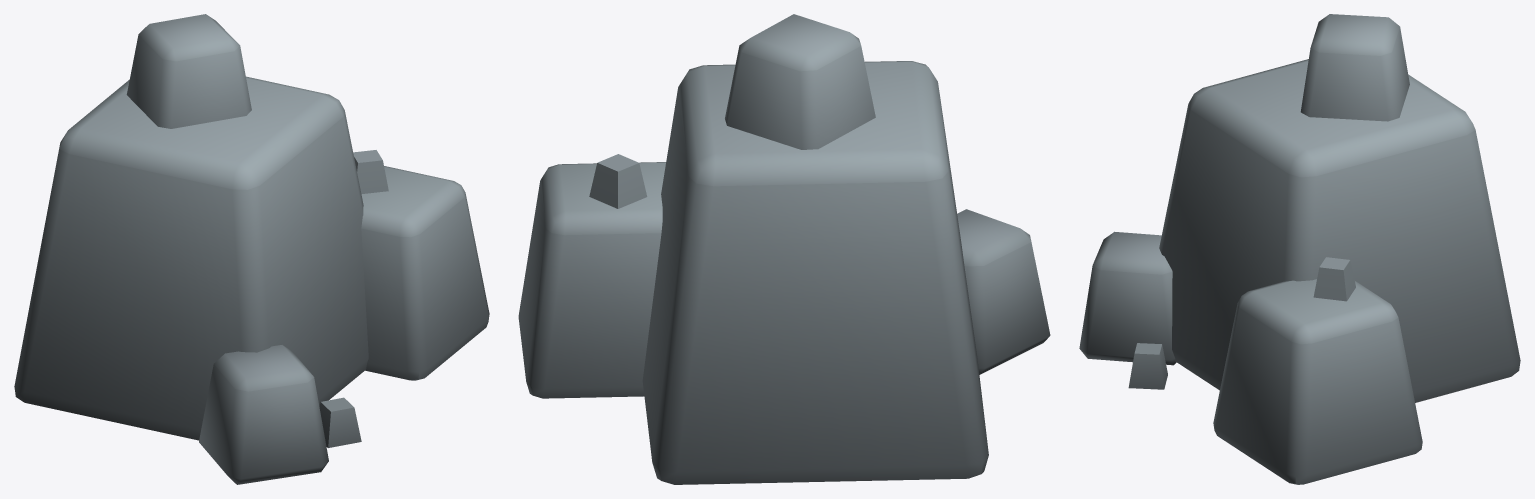
The model's file is Rock_2_H_Color1.glb.
The picture shows the model from 3 angles, left to right: view 1: azimuth 30°, elevation 25°; view 2: azimuth 150°, elevation 25°; view 3: azimuth 270°, elevation 25°; orthographic projection. The views are drawn at different scales.
Parts seen in each view (by area): view 1: Rock_2_H_Color1; view 2: Rock_2_H_Color1; view 3: Rock_2_H_Color1.
Boxes of the visible parts, x1,y1,x2,y2 form: Rock_2_H_Color1: [14, 14, 489, 484]; Rock_2_H_Color1: [518, 14, 1050, 484]; Rock_2_H_Color1: [1079, 14, 1520, 484].
Bounding box in the file's own units: 3.7 × 2.76 × 3.31.
1 material, 1 textured.
